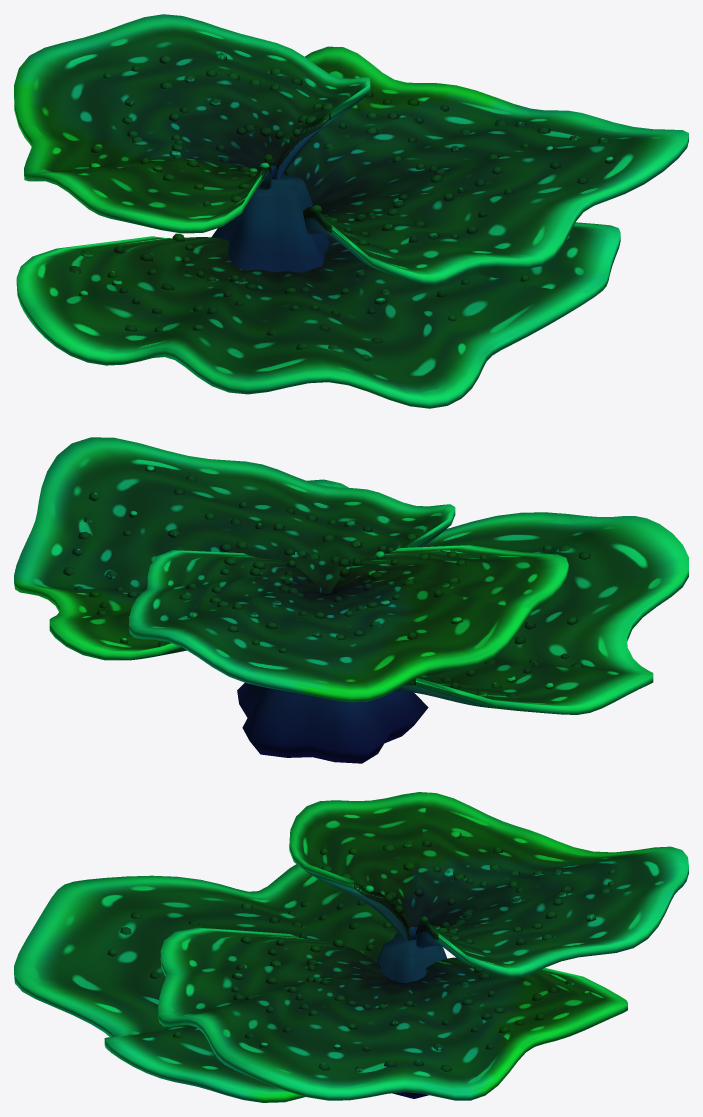
Rendered from reef-montipora-sunset-shelf.glb.
3 renders of one model, top to bottom at view 1: azimuth 30°, elevation 25°; view 2: azimuth 150°, elevation 25°; view 3: azimuth 270°, elevation 25°, orthographic. The views are drawn at different scales.
Visible parts, largest first — view 1: Reef_Montipora_Sunset_Shelf; view 2: Reef_Montipora_Sunset_Shelf; view 3: Reef_Montipora_Sunset_Shelf.
Boxes of the visible parts, x1,y1,x2,y2 form: Reef_Montipora_Sunset_Shelf: (14,14,688,408); Reef_Montipora_Sunset_Shelf: (14,437,688,763); Reef_Montipora_Sunset_Shelf: (14,792,688,1102).
Bounding box in the file's own units: 0.21 × 0.0614 × 0.2087.
1 material, 1 textured.
